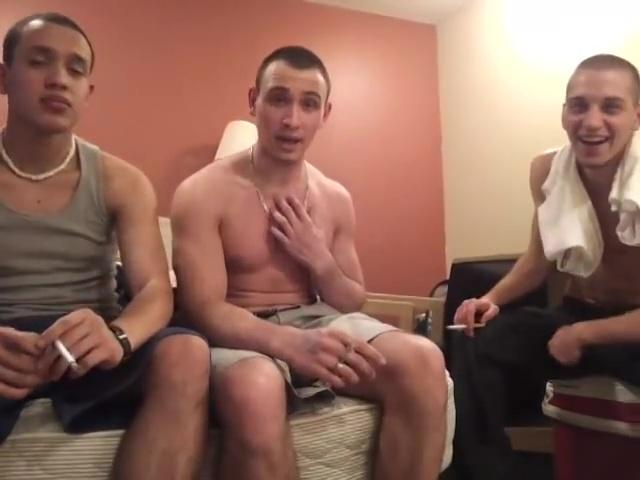cigarette: (54, 337, 78, 374), (442, 322, 488, 331)
